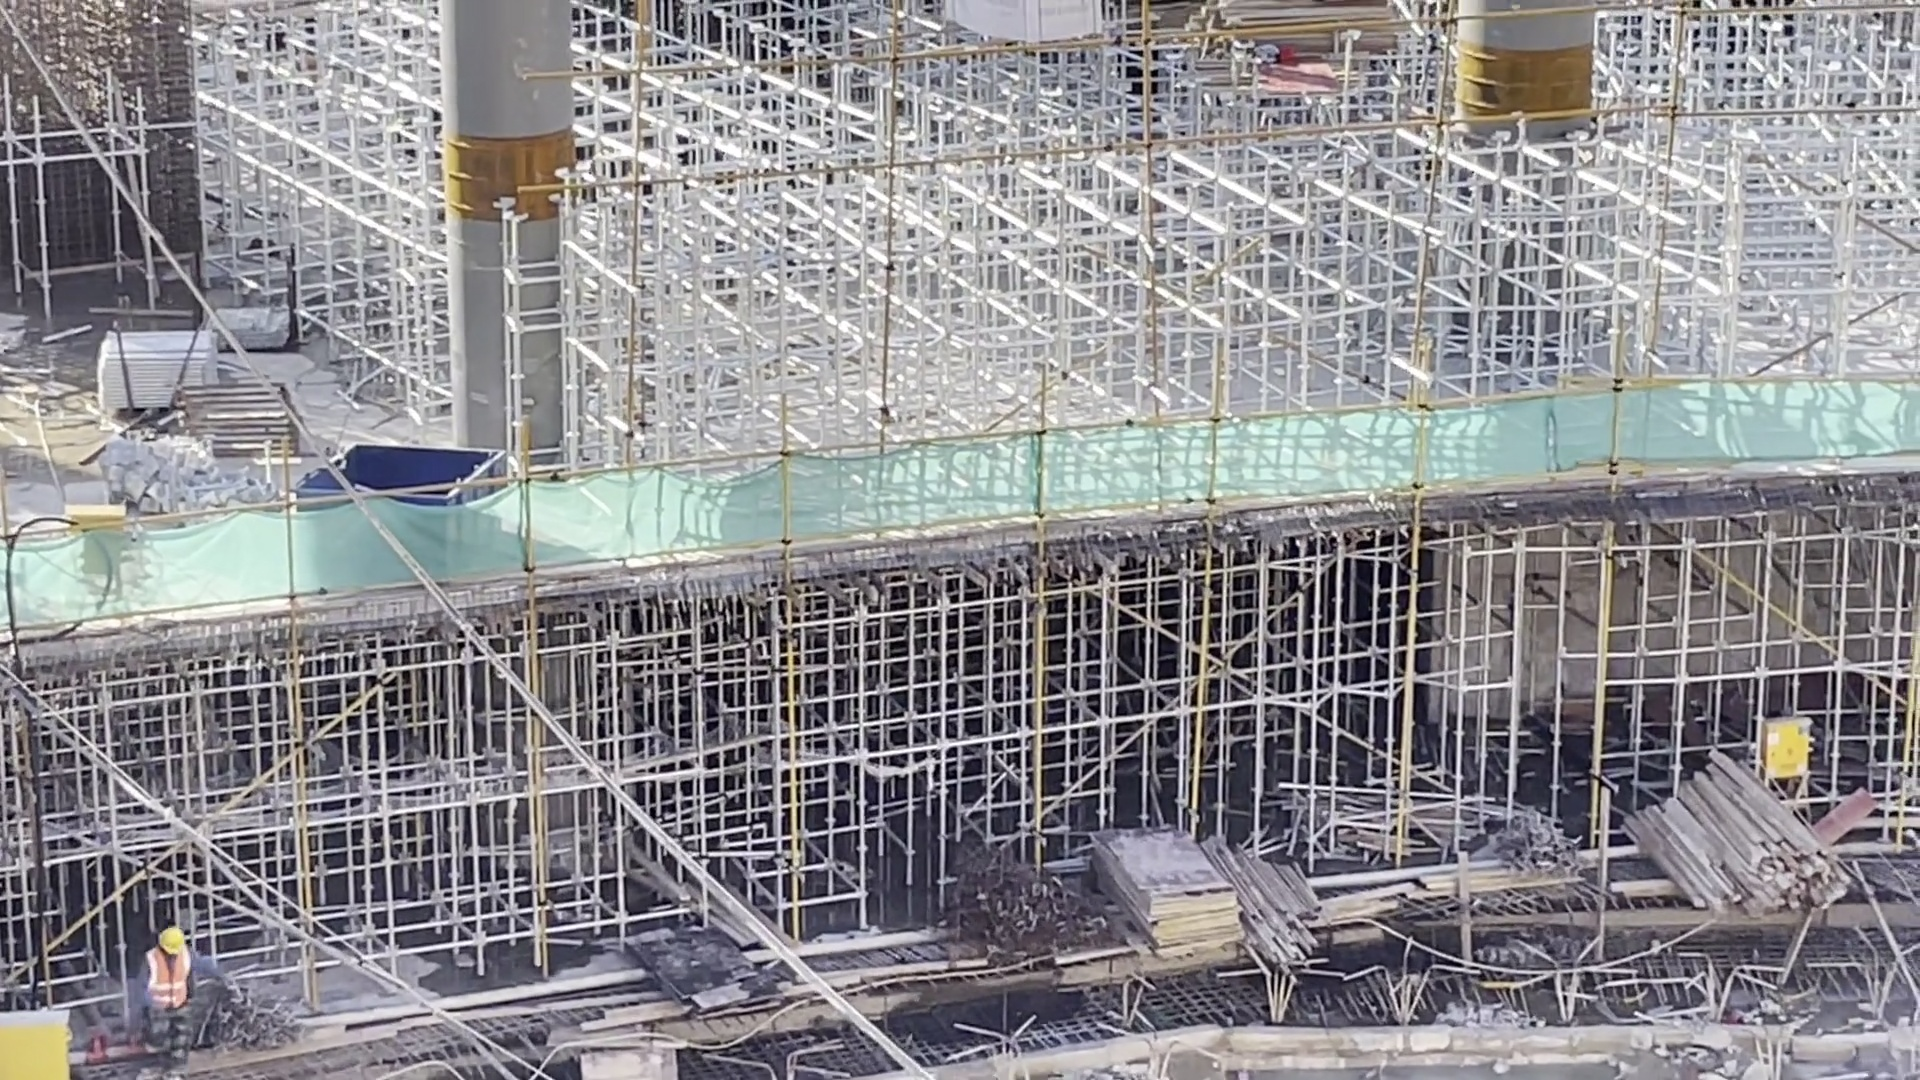board: (1085, 824, 1252, 963)
ebox: (1756, 712, 1819, 782), (66, 502, 126, 520)
helmet: (156, 926, 186, 957)
hopper: (343, 439, 515, 483)
person: (135, 925, 233, 1080)
scaffold: (100, 330, 222, 386)
vest: (149, 950, 191, 1011)
wood: (1622, 746, 1866, 916), (1244, 853, 1334, 950)
